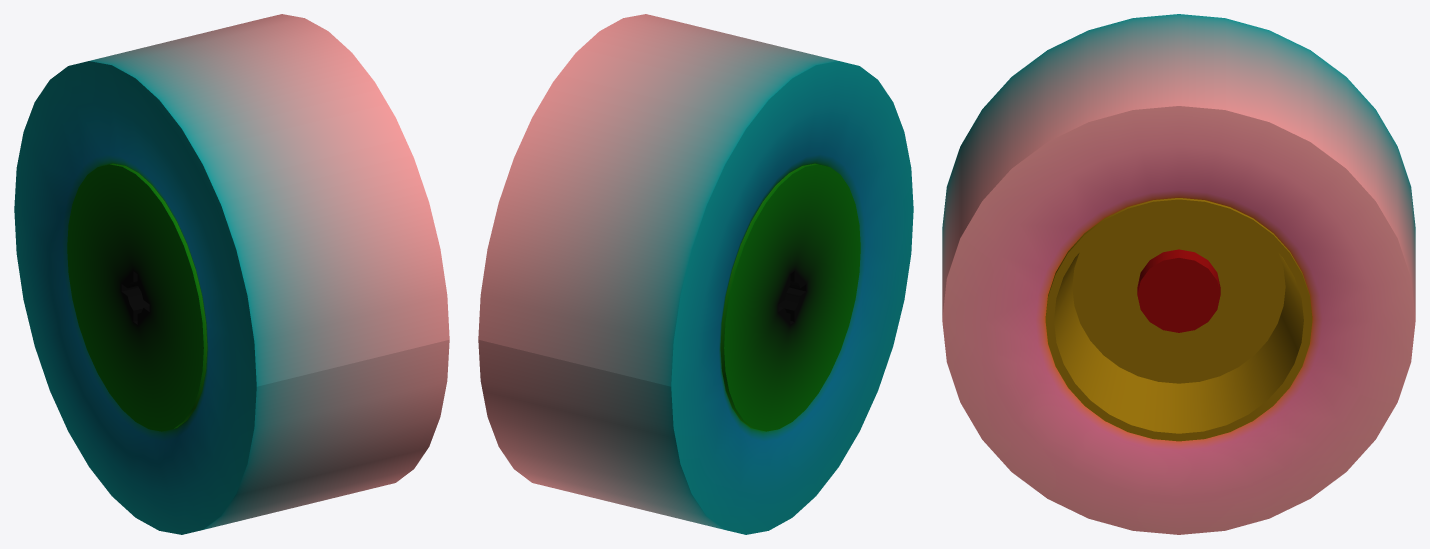
Rendered from SM_Wheel_4x2.gltf.
3 renders of one model, left to right at view 1: azimuth 30°, elevation 25°; view 2: azimuth 150°, elevation 25°; view 3: azimuth 270°, elevation 25°, orthographic. The views are drawn at different scales.
Visible parts, largest first — view 1: SM_Wheel_4x2; view 2: SM_Wheel_4x2; view 3: SM_Wheel_4x2.
Part boxes in pixels (x1,y1,x2,y2): SM_Wheel_4x2: [14, 14, 449, 534]; SM_Wheel_4x2: [478, 14, 913, 534]; SM_Wheel_4x2: [942, 14, 1415, 534].
Size of the model in its own units: 0.5719 by 1.2 by 1.2.
